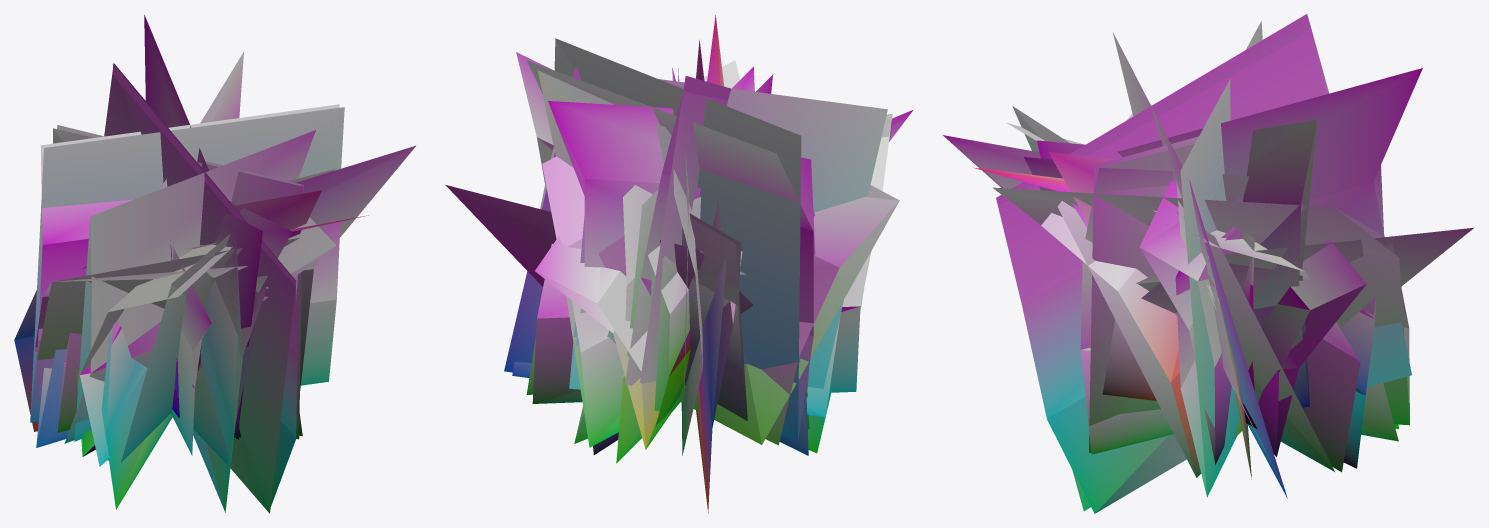
Rendered from elderbush_01_b.dae.
3 views of the same model, side by side, from view 1: azimuth 30°, elevation 25°; view 2: azimuth 150°, elevation 25°; view 3: azimuth 270°, elevation 25° (orthographic). The views are drawn at different scales.
Visible parts, largest first — view 1: elderbush64, elderbush128; view 2: elderbush128, elderbush64; view 3: elderbush128, elderbush64.
Boxes of the visible parts, left/top/right/bottom form: elderbush64: left=29, top=63, right=415, bottom=513; elderbush128: left=14, top=15, right=368, bottom=512; elderbush128: left=512, top=15, right=899, bottom=512; elderbush64: left=445, top=38, right=913, bottom=454; elderbush128: left=943, top=14, right=1409, bottom=513; elderbush64: left=947, top=14, right=1473, bottom=511.
Size of what is drawn, in the model's own units: 6.25 by 6.8 by 6.52.
